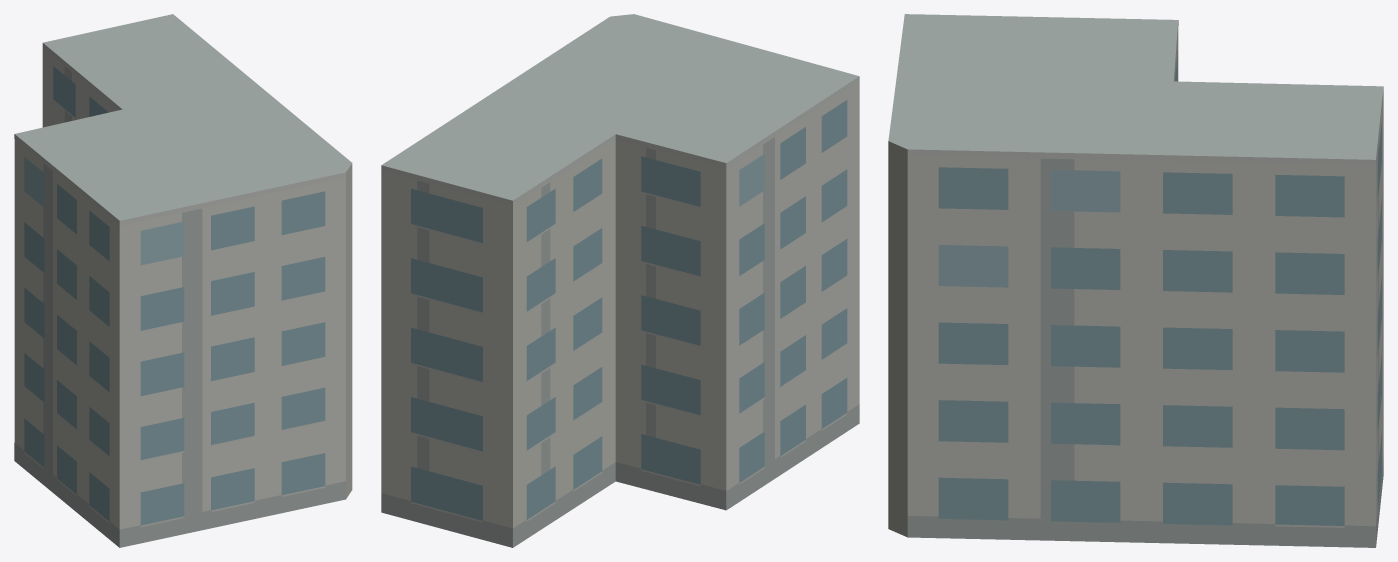
File: survey-upis-32748599.glb
The picture shows the model from 3 angles, left to right: view 1: azimuth 30°, elevation 25°; view 2: azimuth 150°, elevation 25°; view 3: azimuth 270°, elevation 25°; orthographic projection. The views are drawn at different scales.
Visible parts, largest first — view 1: survey-upis-32748599.tmp; view 2: survey-upis-32748599.tmp; view 3: survey-upis-32748599.tmp.
Boxes of the visible parts, box(x1,y1,x2,y2) form: survey-upis-32748599.tmp: box(14, 14, 352, 547); survey-upis-32748599.tmp: box(381, 14, 859, 547); survey-upis-32748599.tmp: box(888, 14, 1383, 547).
Size of the model in its own units: 12.3 by 15.25 by 17.65.
